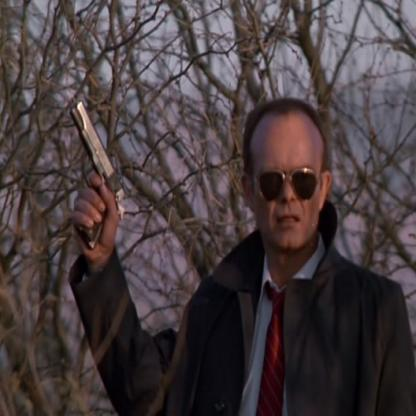gun: (60, 88, 129, 258)
